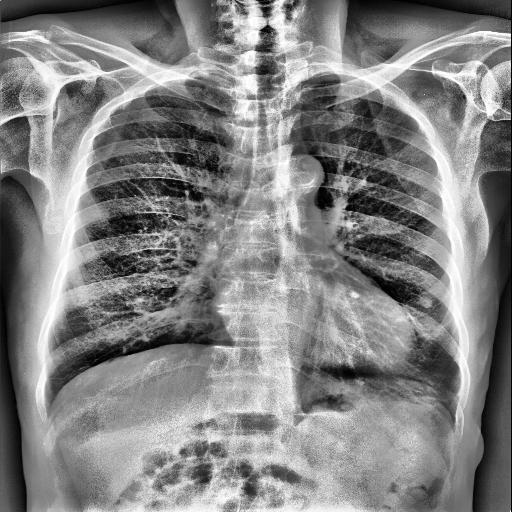0- Aortic enlargement: (270, 150, 322, 194), (280, 153, 320, 193)
11- Pleural thickening: (169, 69, 224, 81)
3- Cardiomegaly: (206, 289, 420, 373), (204, 285, 419, 368)
8- Nodule-Mass: (420, 298, 432, 308), (420, 300, 432, 308)
